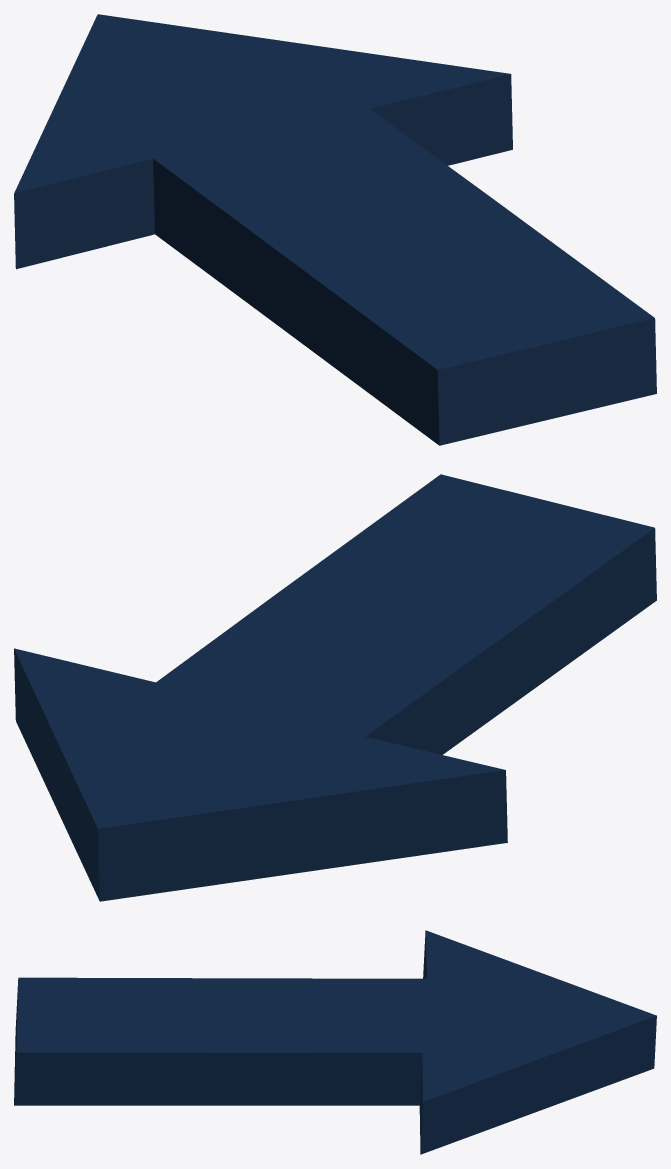
Rendered from Pfeil.glb.
3 views of the same model, one above another, from view 1: azimuth 30°, elevation 25°; view 2: azimuth 150°, elevation 25°; view 3: azimuth 270°, elevation 25° (orthographic). The views are drawn at different scales.
Visible parts, largest first — view 1: Fläche; view 2: Fläche; view 3: Fläche.
Boxes of the visible parts, x1,y1,x2,y2 form: Fläche: (14, 14, 656, 445); Fläche: (14, 474, 656, 901); Fläche: (14, 930, 656, 1154).
Bounding box in the file's own units: 1.4 × 0.2005 × 2.21.
